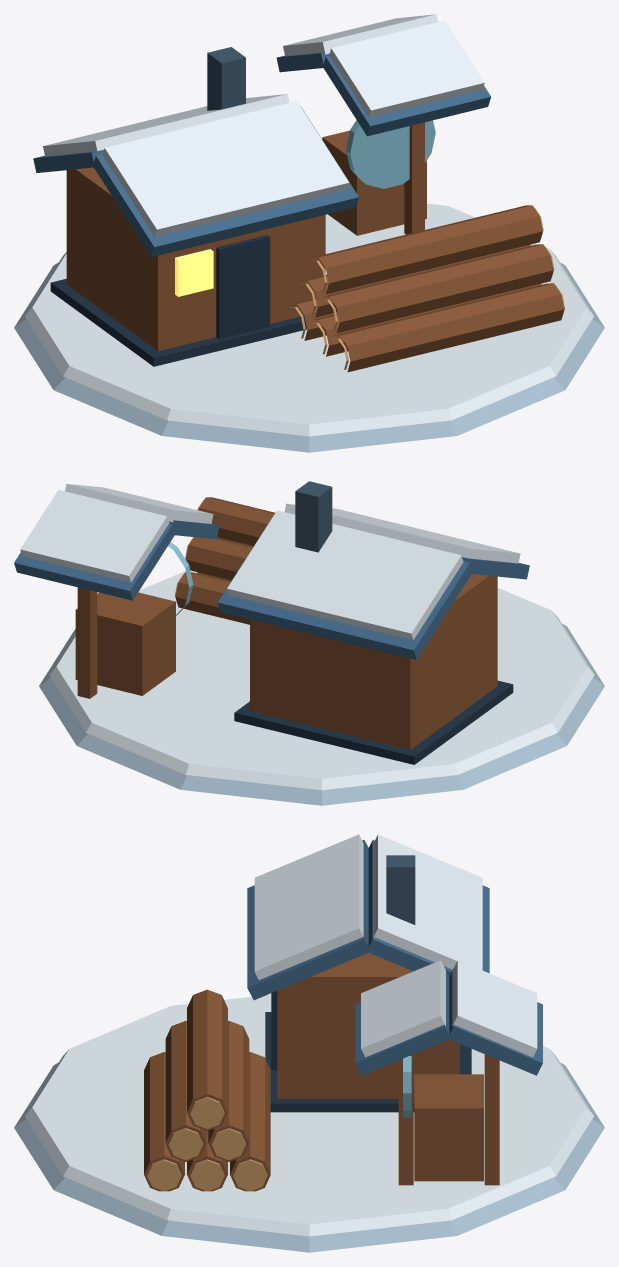
File: res_wood.glb
3 renders of one model, top to bottom at view 1: azimuth 30°, elevation 25°; view 2: azimuth 150°, elevation 25°; view 3: azimuth 270°, elevation 25°, orthographic. The views are drawn at different scales.
Parts seen in each view (by area): view 1: resource_wood; view 2: resource_wood; view 3: resource_wood.
Boxes of the visible parts, x1,y1,x2,y2 form: resource_wood: (14,14,604,452); resource_wood: (14,481,604,805); resource_wood: (14,834,604,1252).
Size of the model in its own units: 5.5 by 2.55 by 5.5.
